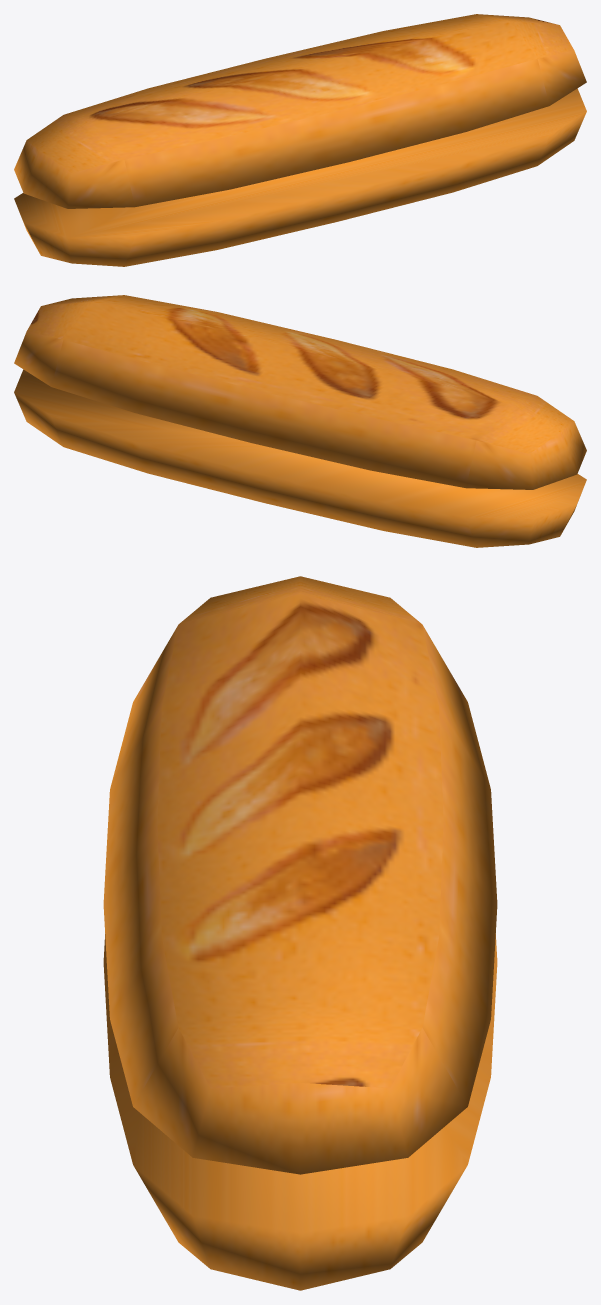
Rendered from ChoppedBread.fbx.
3 renders of one model, top to bottom at view 1: azimuth 30°, elevation 25°; view 2: azimuth 150°, elevation 25°; view 3: azimuth 270°, elevation 25°, orthographic. The views are drawn at different scales.
Parts seen in each view (by area): view 1: Bread; view 2: Bread; view 3: Bread.
Part boxes in pixels (x1,y1,x2,y2): Bread: (14, 14, 586, 266); Bread: (14, 295, 586, 547); Bread: (103, 576, 497, 1290).
Size of the model in its own units: 25.96 by 6.35 by 8.
Materials: 1 (1 with a texture image).
